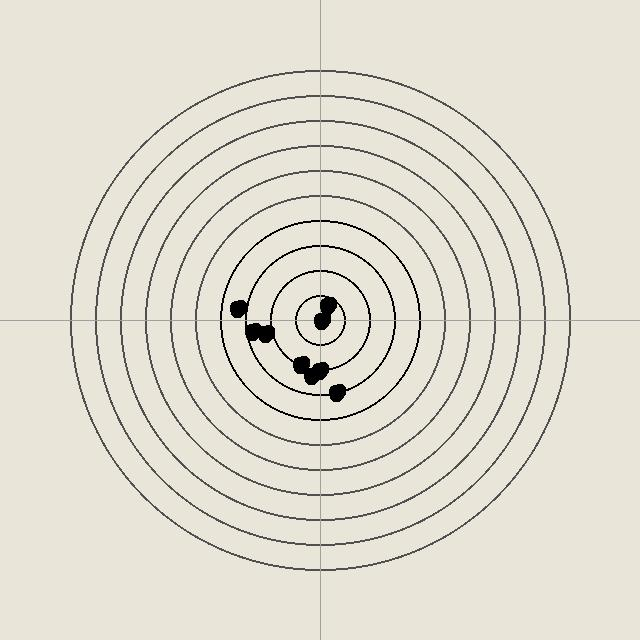good_group: (317, 295, 337, 315), (301, 365, 321, 385), (311, 310, 331, 330), (242, 321, 262, 341), (309, 360, 329, 380), (255, 323, 275, 343), (290, 354, 310, 374), (227, 298, 247, 318), (326, 382, 346, 402)
